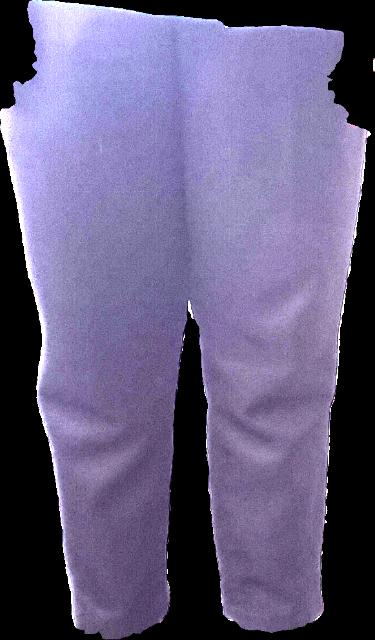blackpants: (0, 0, 370, 639)
